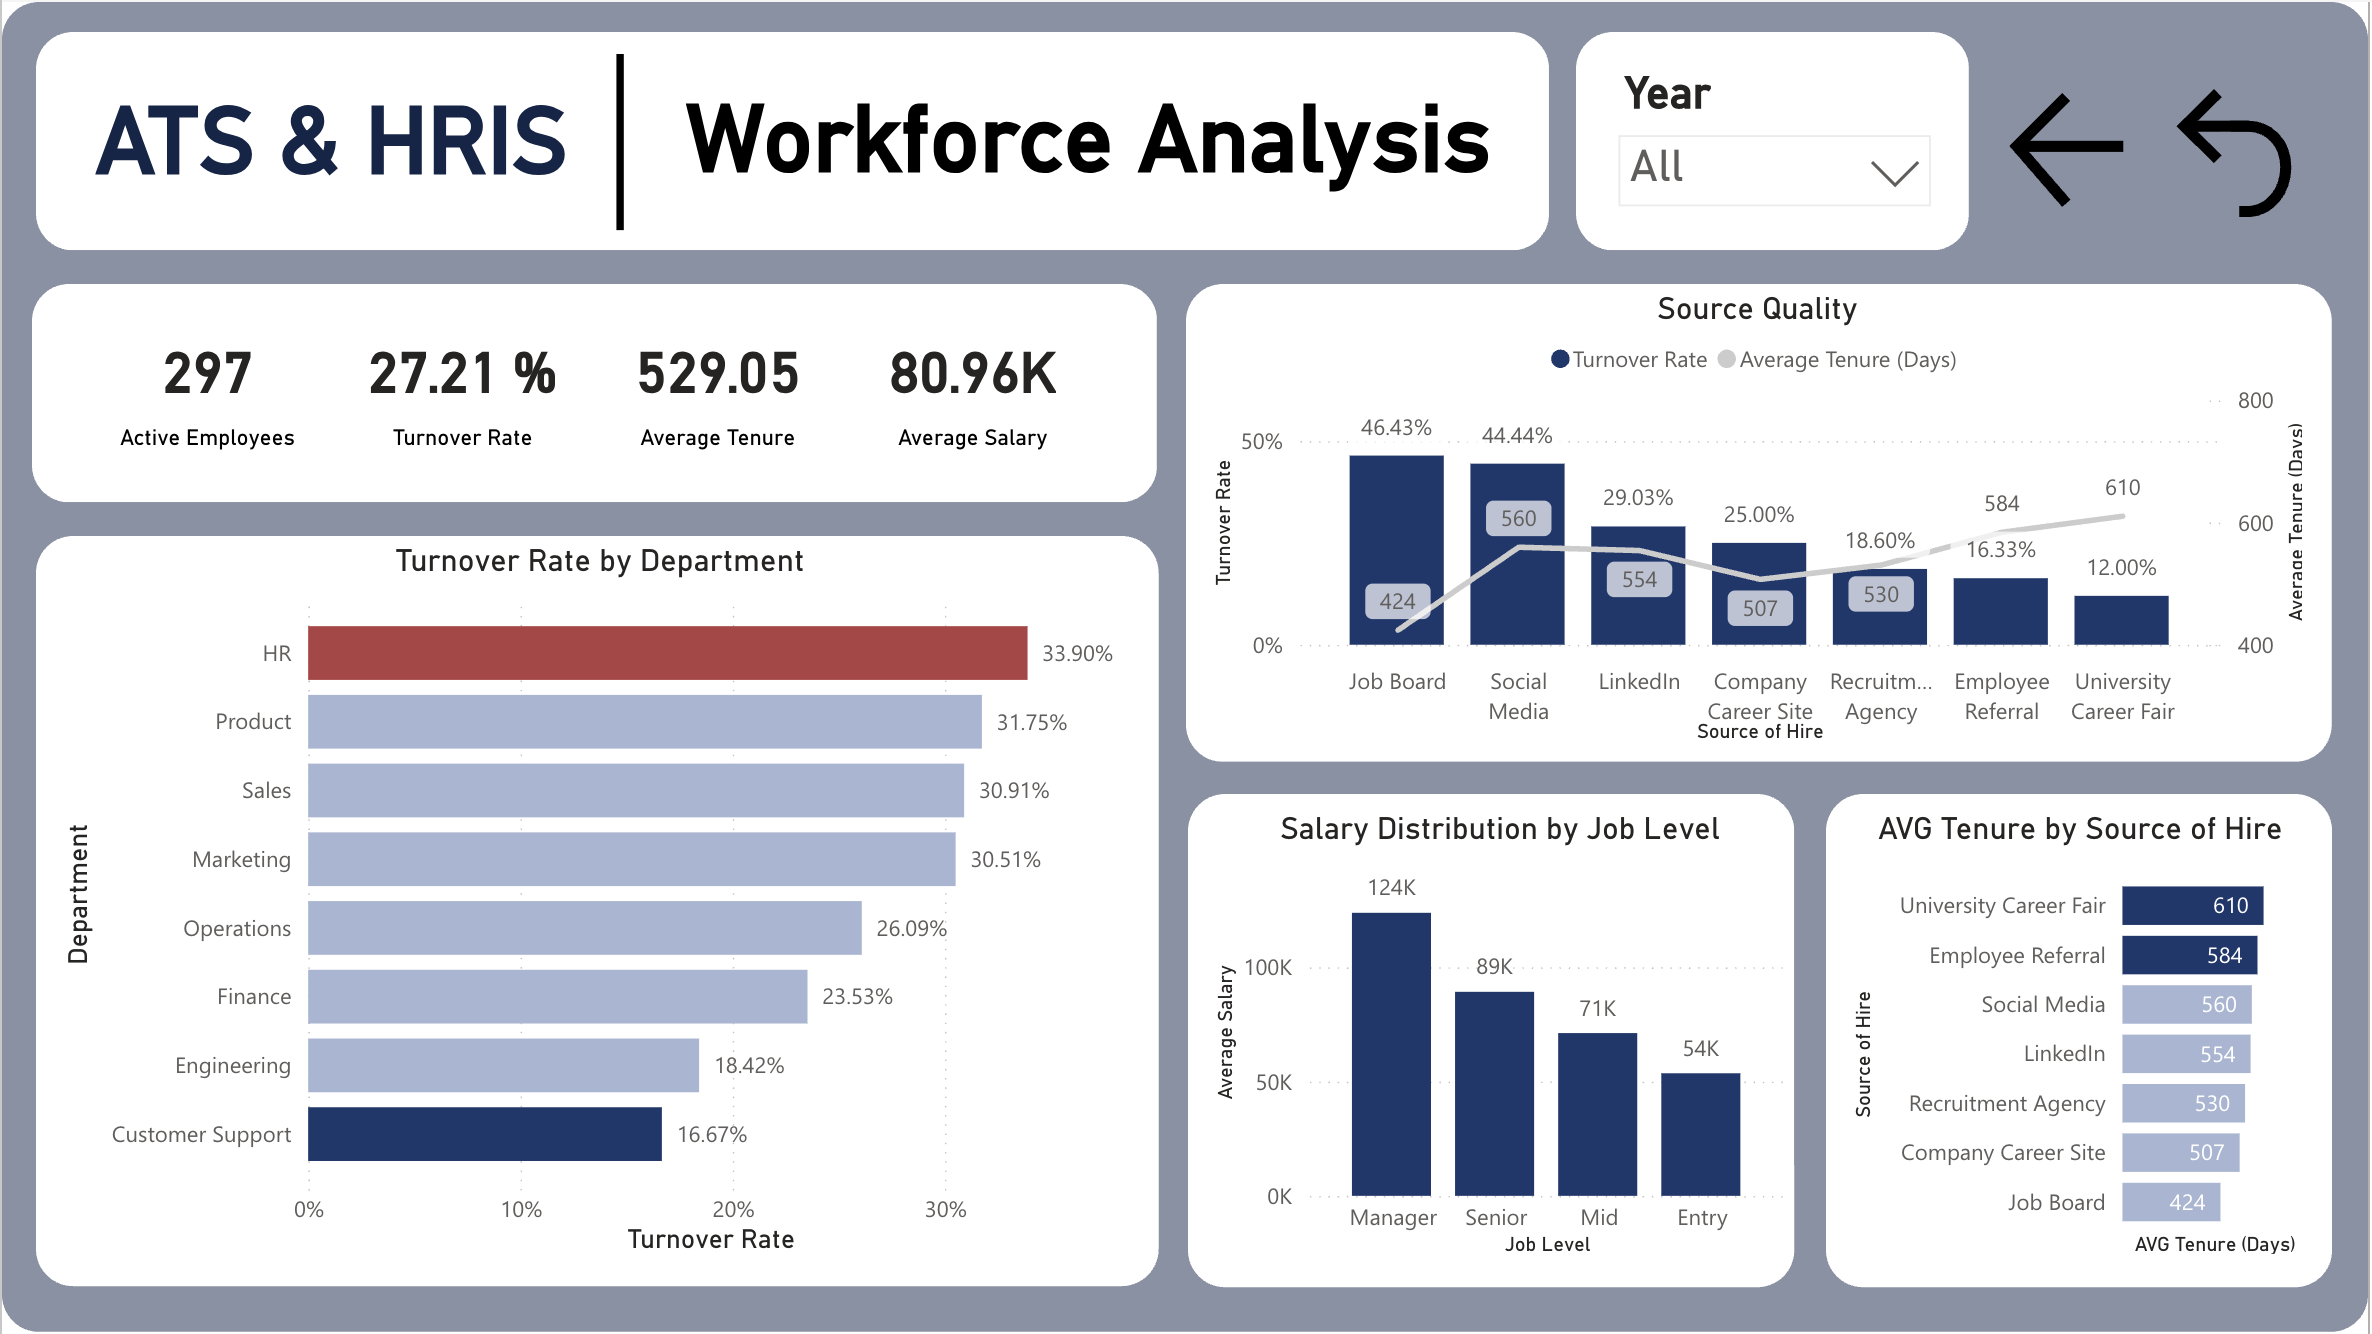

The page's visual inventory and layout, read from the dashboard file:
{"tool":"powerbi","page":{"name":"Workforce Analytics","canvas":[1280,720],"ordinal":3},"visuals":[{"type":"shape","box":[0,0,1280,719.4],"z":0},{"type":"shape","box":[18.1,16.7,818.6,118.1],"z":1000},{"type":"textbox","box":[45.8,47,279.6,77.5],"z":2000},{"type":"shape","box":[287.3,28,95.3,95.3],"z":3000},{"type":"textbox","box":[364.1,45.9,461.4,77.8],"z":4000},{"type":"actionButton","box":[1166,37.5,83.4,87.6],"z":5000},{"type":"actionButton","box":[1081.7,36.9,73.7,86.4],"z":6000},{"type":"shape","box":[851.9,16.7,212.6,118.1],"z":7000},{"type":"slicer","fields":{"Values":["date.year"]},"box":[864.5,33.4,189,90.3],"z":8000},{"type":"shape","box":[16.7,152.9,608.7,118.1],"z":9000},{"type":"cardVisual","fields":{"Data":["hris_employee_data.active_employees","hris_employee_data.turnover_rate","hris_employee_data.avg_tenure","hris_employee_data.avg_salary"]},"box":[29.2,164,579.5,107],"z":10000},{"type":"shape","box":[18.1,289.1,607.3,405.8],"z":11000},{"type":"barChart","title":"Turnover Rate by Department","fields":{"Category":["ats_recruitment_data.department"],"Y":["hris_employee_data.turnover_rate"]},"box":[27.8,294.6,590.7,387.8],"z":12000},{"type":"shape","box":[640.7,152.9,619.8,258.5],"z":13000},{"type":"lineClusteredColumnComboChart","title":"Source Quality","fields":{"Category":["hris_employee_data.source_of_hire"],"Y":["hris_employee_data.turnover_rate"],"Y2":["hris_employee_data.avg_tenure"]},"box":[650.4,158.4,599,247.4],"z":14000},{"type":"shape","box":[642.1,428.1,328,266.8],"z":15000},{"type":"columnChart","title":"Salary Distribution by Job Level","fields":{"Category":["hris_employee_data.job_level"],"Y":["hris_employee_data.avg_salary"]},"box":[651.8,439.2,318.3,243.2],"z":15001},{"type":"shape","box":[986.8,428.1,273.8,266.8],"z":15002},{"type":"barChart","title":"AVG Tenure by Source of Hire","fields":{"Category":["hris_employee_data.source_of_hire"],"Y":["hris_employee_data.avg_tenure"]},"box":[996.5,439.2,255.7,243.2],"z":15003}]}

Visuals, with their boxes in screenshot pixels (x1, y1, x2, y2), scaled from the page's 1280x720 canvas onto the 2372x1334 screenshot:
shape: [left=0, top=0, right=2371, bottom=1333]
shape: [left=34, top=31, right=1551, bottom=250]
textbox: [left=85, top=87, right=603, bottom=231]
shape: [left=532, top=52, right=709, bottom=228]
textbox: [left=675, top=85, right=1530, bottom=229]
actionButton: [left=2161, top=69, right=2315, bottom=232]
actionButton: [left=2005, top=68, right=2141, bottom=228]
shape: [left=1579, top=31, right=1973, bottom=250]
slicer - date.year: [left=1602, top=62, right=1952, bottom=229]
shape: [left=31, top=283, right=1159, bottom=502]
cardVisual - hris_employee_data.active_employees x hris_employee_data.turnover_rate: [left=54, top=304, right=1128, bottom=502]
shape: [left=34, top=536, right=1159, bottom=1287]
"Turnover Rate by Department" barChart: [left=52, top=546, right=1146, bottom=1264]
shape: [left=1187, top=283, right=2336, bottom=762]
"Source Quality" lineClusteredColumnComboChart: [left=1205, top=293, right=2315, bottom=752]
shape: [left=1190, top=793, right=1798, bottom=1287]
"Salary Distribution by Job Level" columnChart: [left=1208, top=814, right=1798, bottom=1264]
shape: [left=1829, top=793, right=2336, bottom=1287]
"AVG Tenure by Source of Hire" barChart: [left=1847, top=814, right=2320, bottom=1264]
